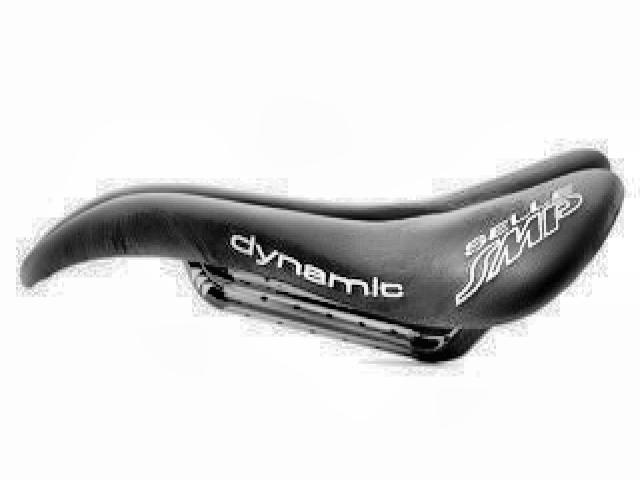saddle: (14, 142, 626, 376)
